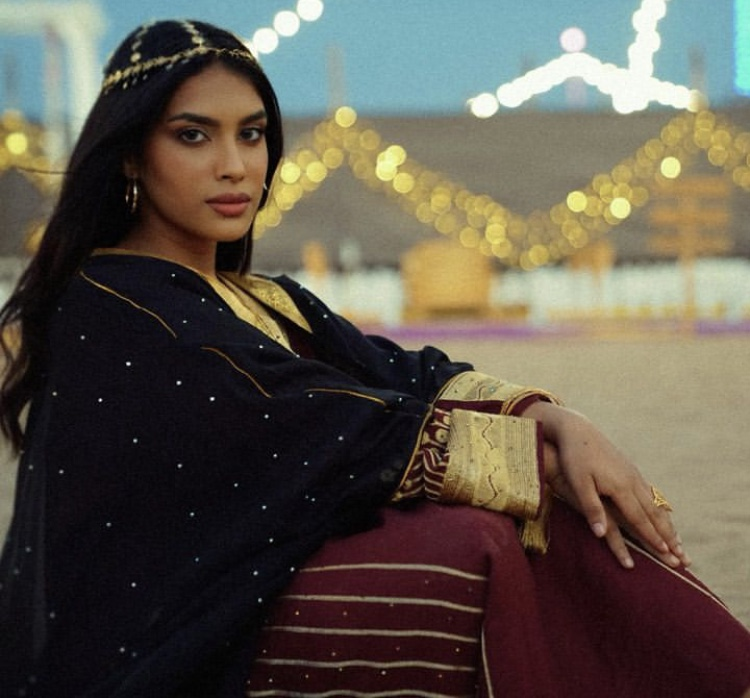Saudi_Founding_Day: (1, 17, 750, 698)
